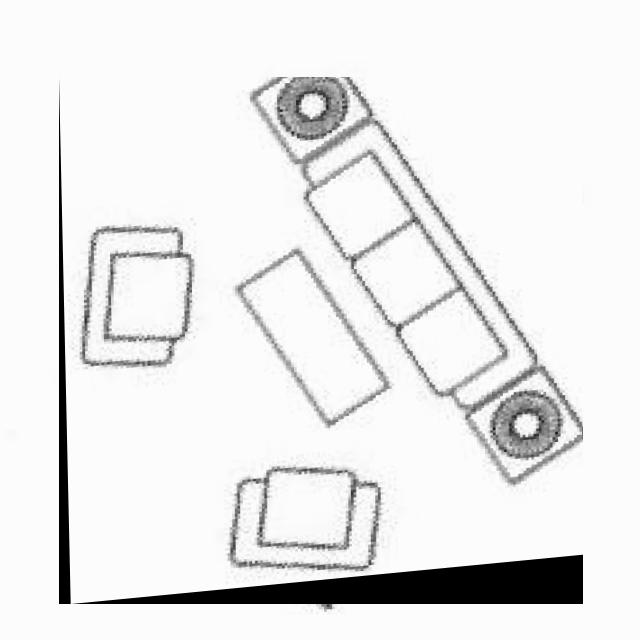sofa: (59, 77, 584, 604)
